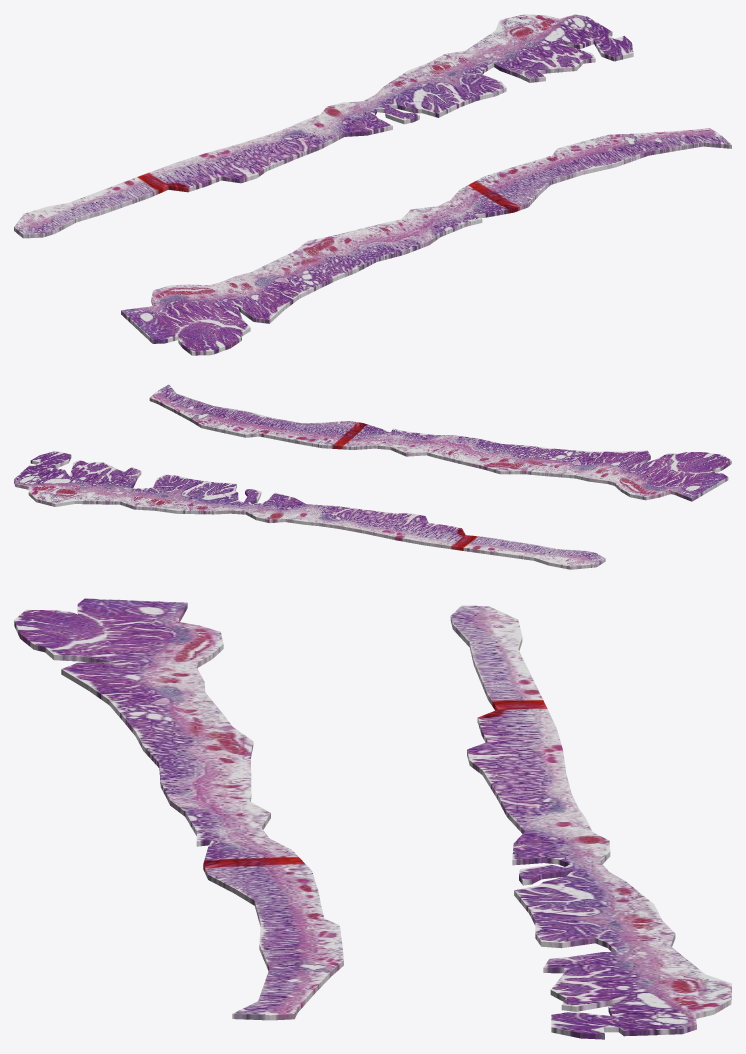
3 renders of one model, top to bottom at view 1: azimuth 30°, elevation 25°; view 2: azimuth 150°, elevation 25°; view 3: azimuth 270°, elevation 25°, orthographic. The views are drawn at different scales.
Parts seen in each view (by area): view 1: 平面; view 2: 平面; view 3: 平面.
Boxes of the visible parts, x1=… form: 平面: x1=14, y1=14, x2=731, y2=355; 平面: x1=14, y1=384, x2=731, y2=569; 平面: x1=14, y1=598, x2=731, y2=1039.
Bounding box in the file's own units: 24.92 × 0.14 × 17.34.
1 material, 1 textured.
